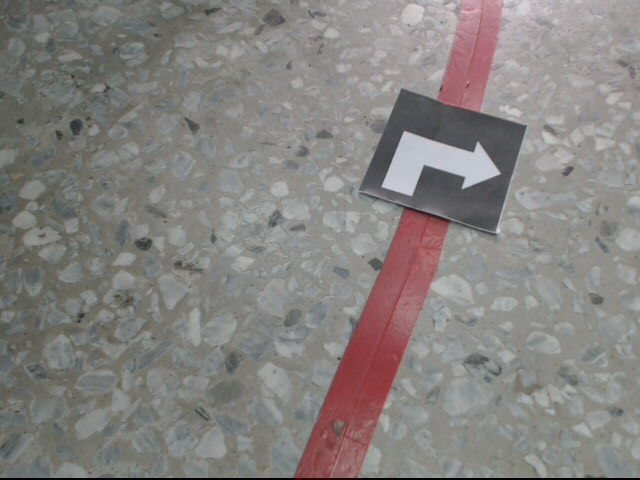right: (352, 89, 530, 235)
